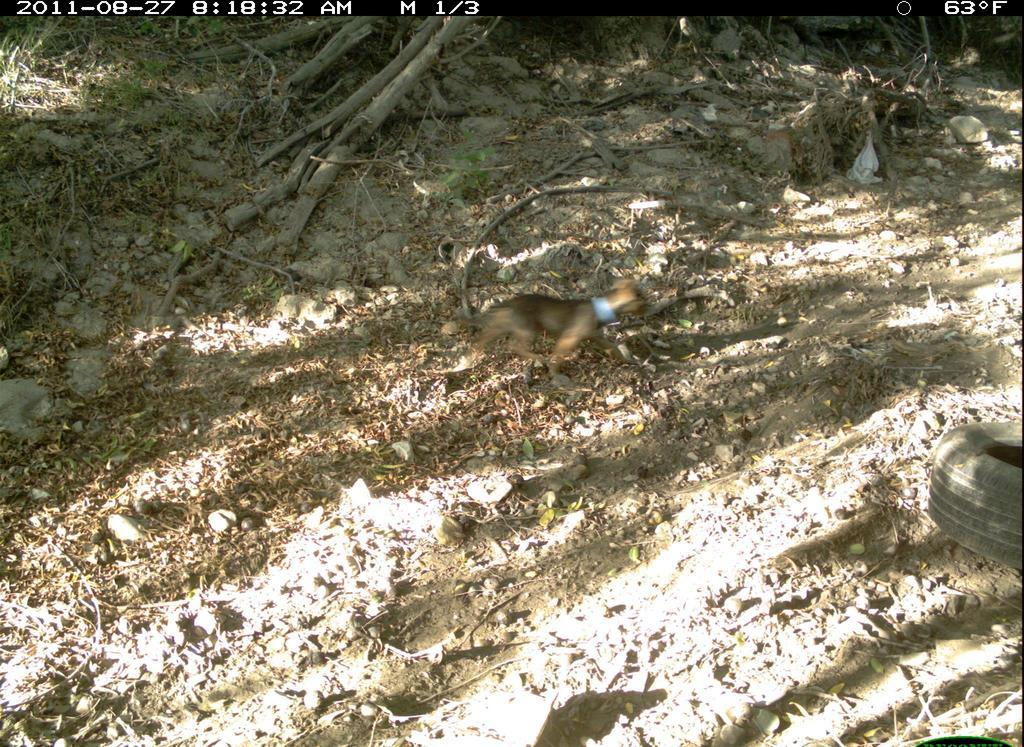dog: (461, 274, 656, 390)
